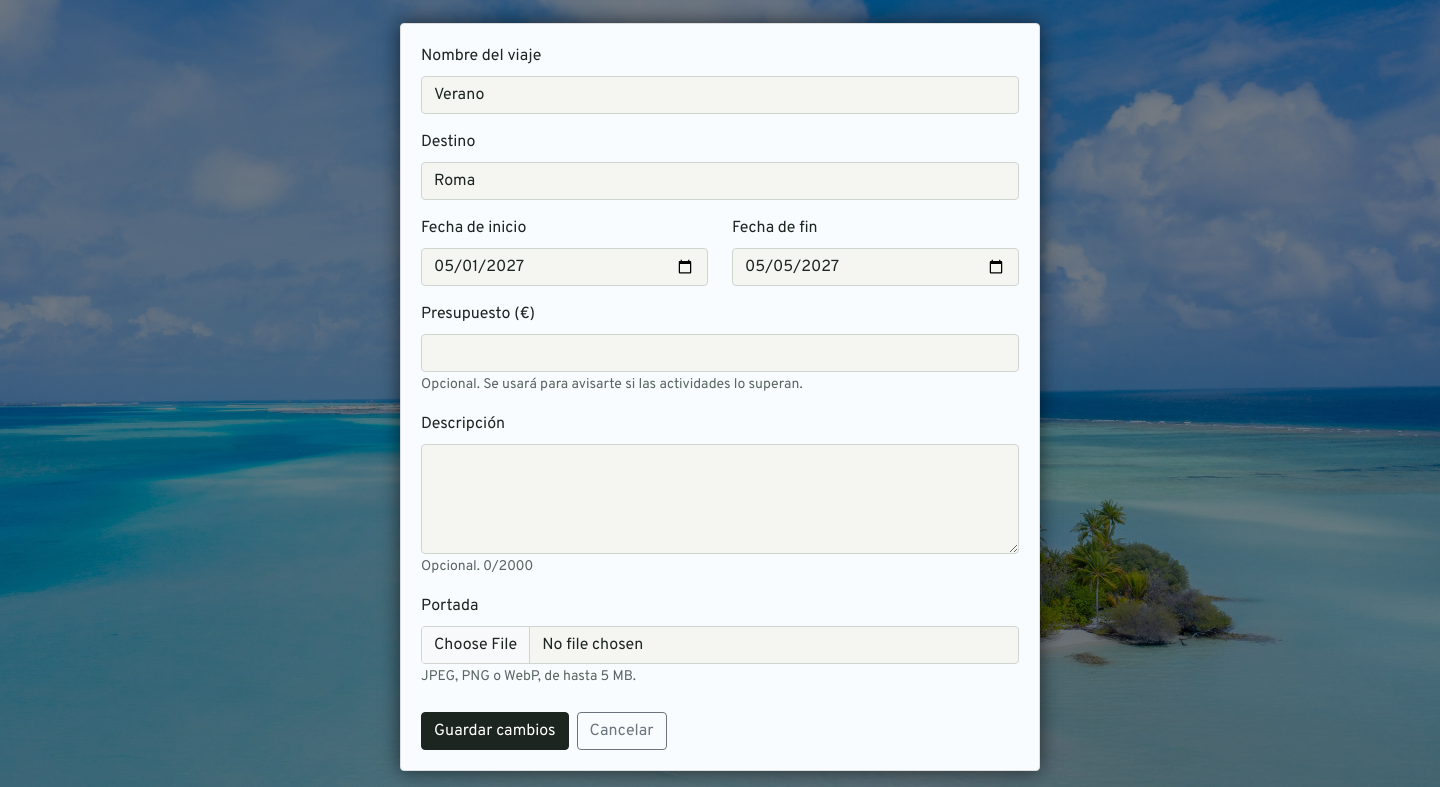
Test: B4 editing a trip › a failed save is shown inline
The image size is (1440, 787).
(page scrolled)
Expected: the field labelled "Nombre del viaje" is shown, [421,76,1019,114]
What coordinates should you click on to do the following:
click the button "Guardar cambios"
I would click on:
 (495, 731)
Its box is [421,712,568,750].
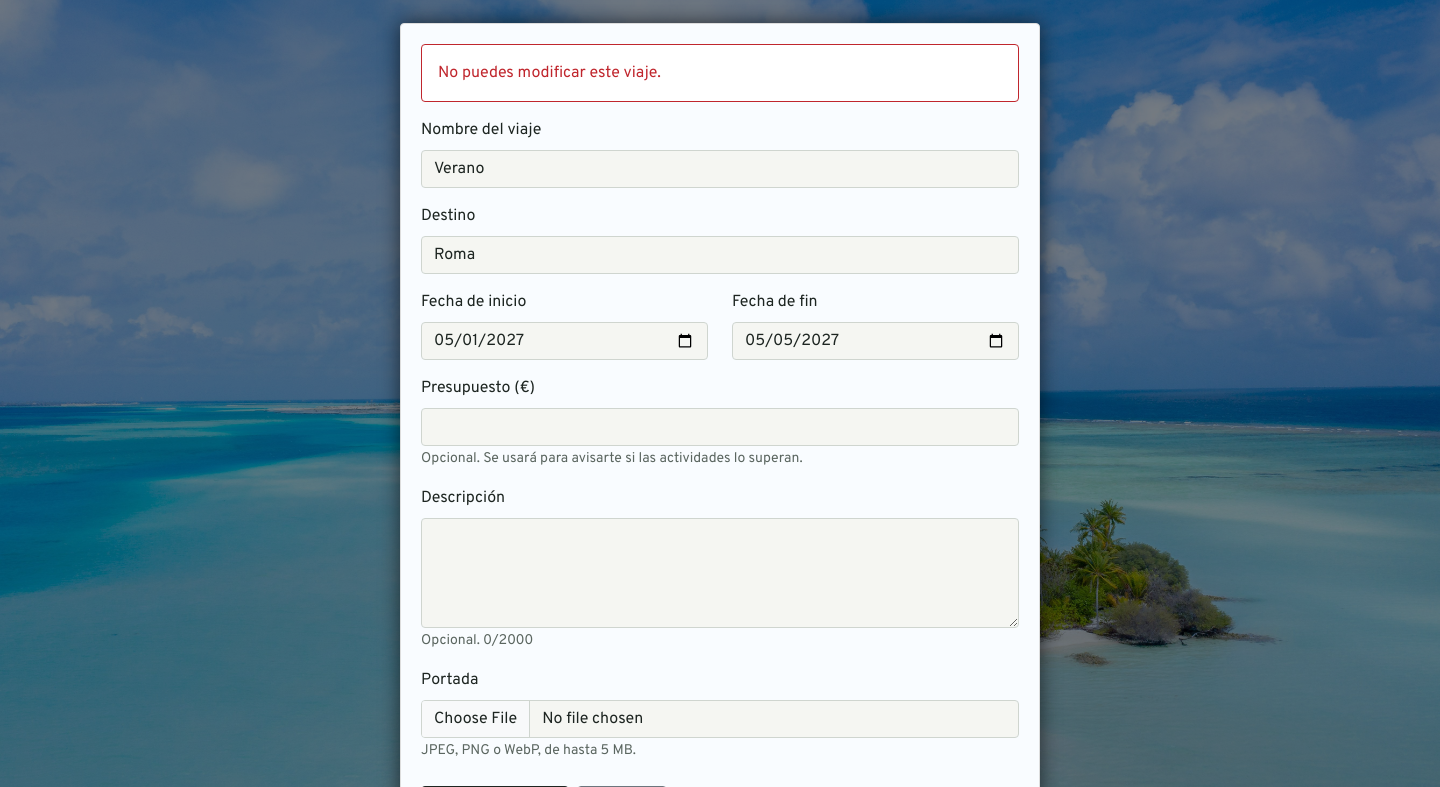
Expected: the text "No puedes modificar este viaje." is shown, [421,44,1019,102]
